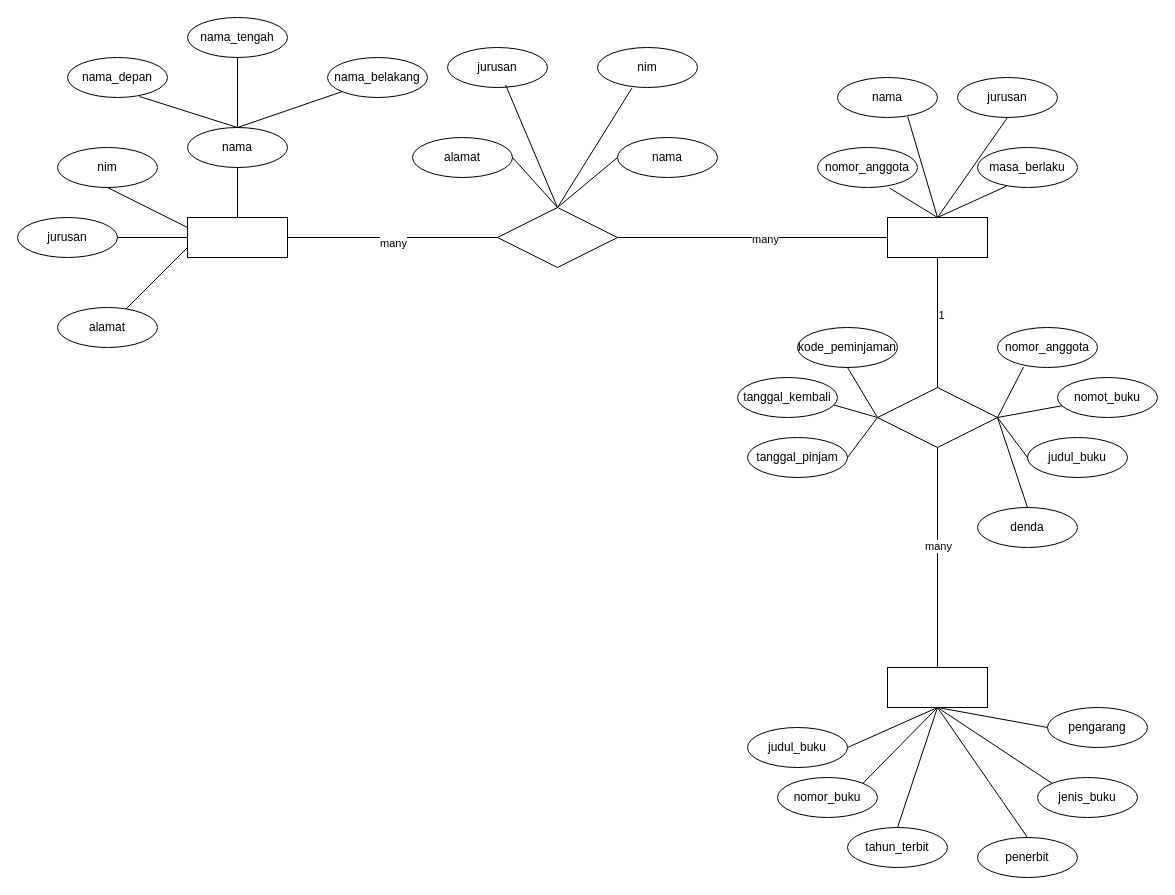
This 1175x895 diagram has some shape labels left out. The shapes that lost their labels are listed below. From the top down, each one's centre as x and y in pixels, then its label:
At (237,237): "mahasiswa".
At (557,237): "mendaftar".
At (937,237): "anggota perpustakaan".
At (937,417): "meminjam".
At (937,687): "buku".
